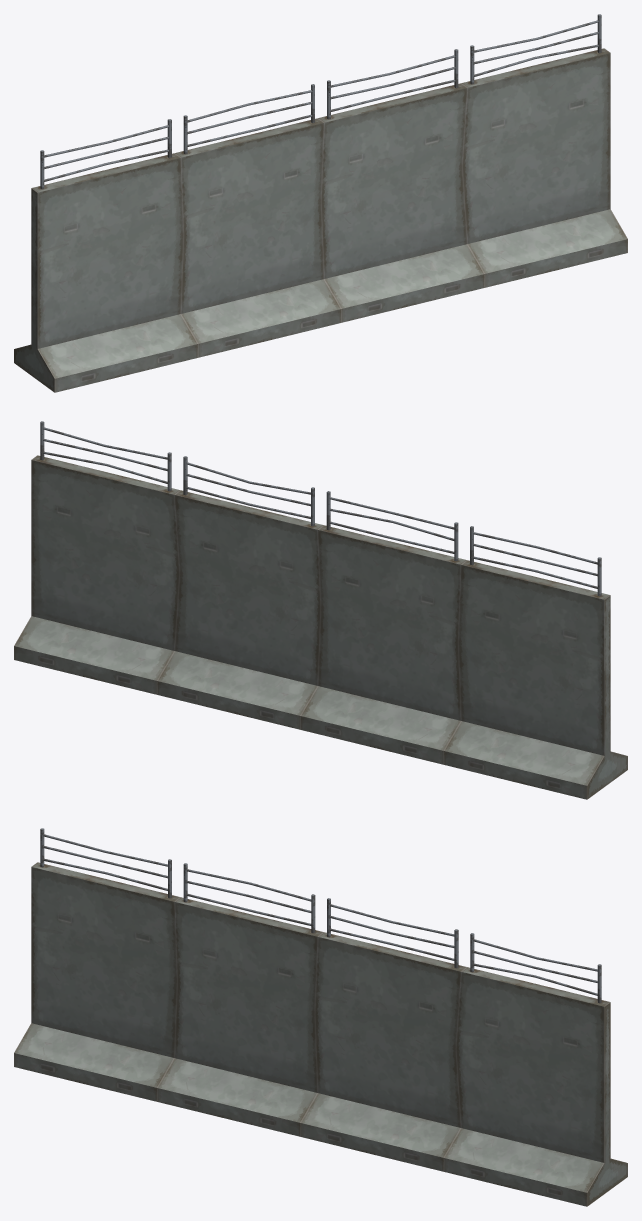
File: BarrierConcrete02_5.FBX
3 renders of one model, top to bottom at view 1: azimuth 30°, elevation 25°; view 2: azimuth 150°, elevation 25°; view 3: azimuth 330°, elevation 25°, orthographic.
Visible parts, largest first — view 1: BarrierConcrete02_5; view 2: BarrierConcrete02_5; view 3: BarrierConcrete02_5.
Boxes of the visible parts, <box> form: BarrierConcrete02_5: <box>14,14,627,392</box>; BarrierConcrete02_5: <box>14,421,627,799</box>; BarrierConcrete02_5: <box>14,828,627,1206</box>.
Size of what is drawn, in the model's own units: 8 by 3 by 0.9855.
